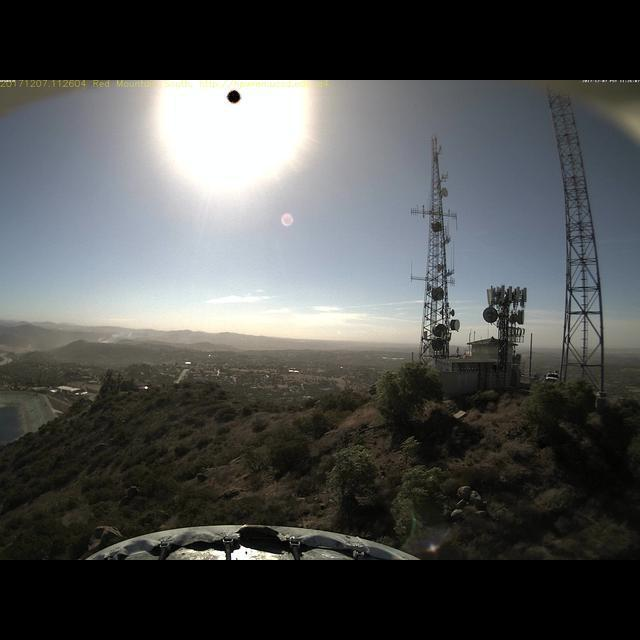Smoke: (90, 324, 144, 347)
